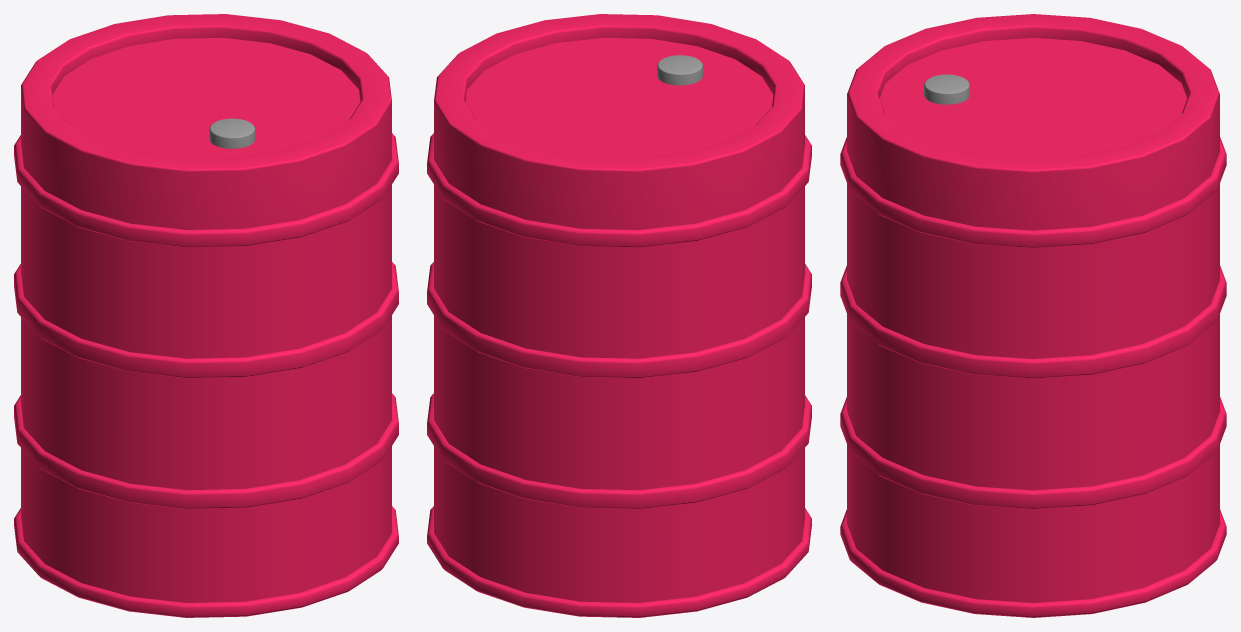
Rendered from Town_5_Barrel_1.glb.
3 renders of one model, left to right at view 1: azimuth 30°, elevation 25°; view 2: azimuth 150°, elevation 25°; view 3: azimuth 270°, elevation 25°, orthographic.
Visible parts, largest first — view 1: Town_5_Barrel_1; view 2: Town_5_Barrel_1; view 3: Town_5_Barrel_1.
Part boxes in pixels (x1,y1,x2,y2): Town_5_Barrel_1: [14, 14, 398, 617]; Town_5_Barrel_1: [427, 14, 811, 617]; Town_5_Barrel_1: [840, 14, 1226, 617].
Size of the model in its own units: 0.8908 by 1.14 by 0.8908.
1 material, 1 textured.
